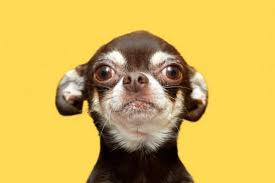chihuahua: (50, 16, 221, 177)
